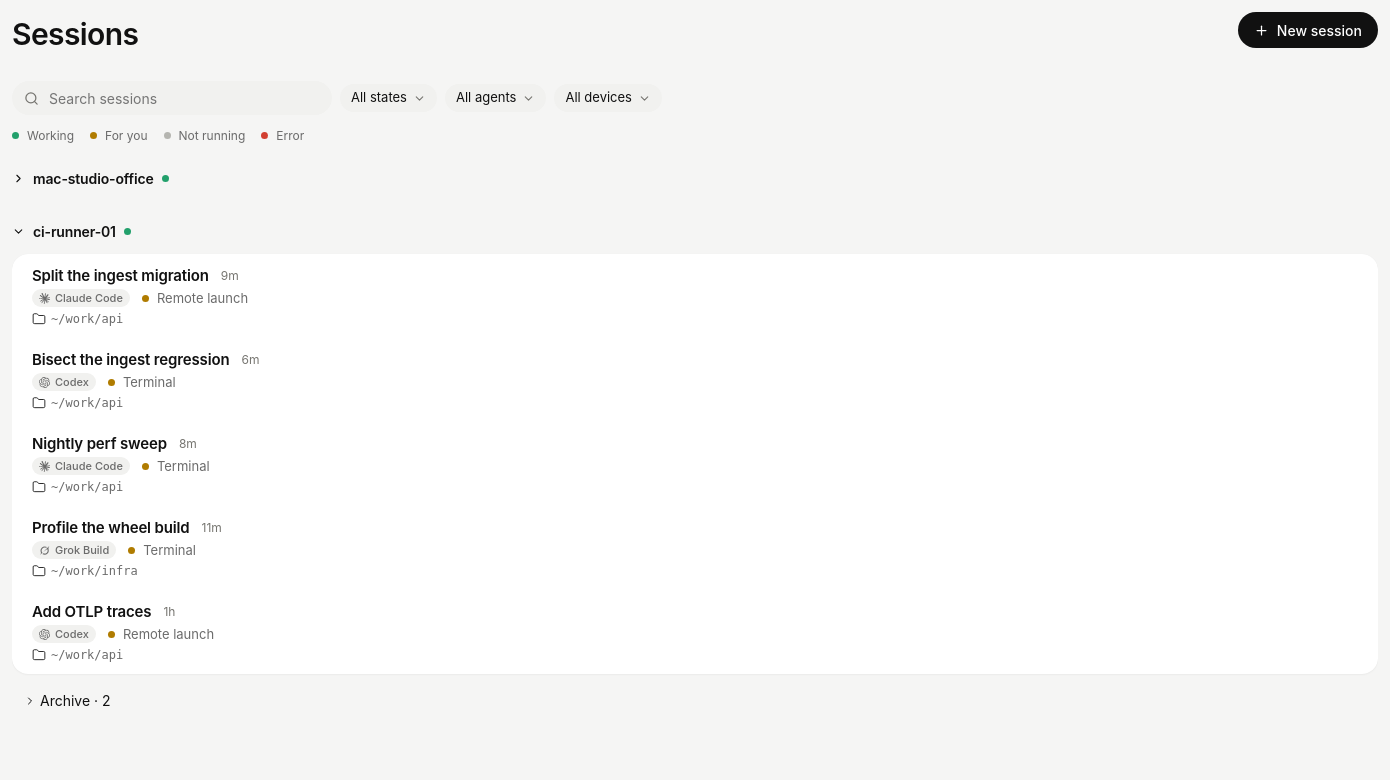
Test: SessionsPage grouping › opens a folded device while a search matches inside it
The image size is (1390, 780).
Expected: the text "Fix flaky auth test" is not shown
Type "flaky" into the search field labelled "Search sessions" at [184, 98], box 47,86 -> 320,110
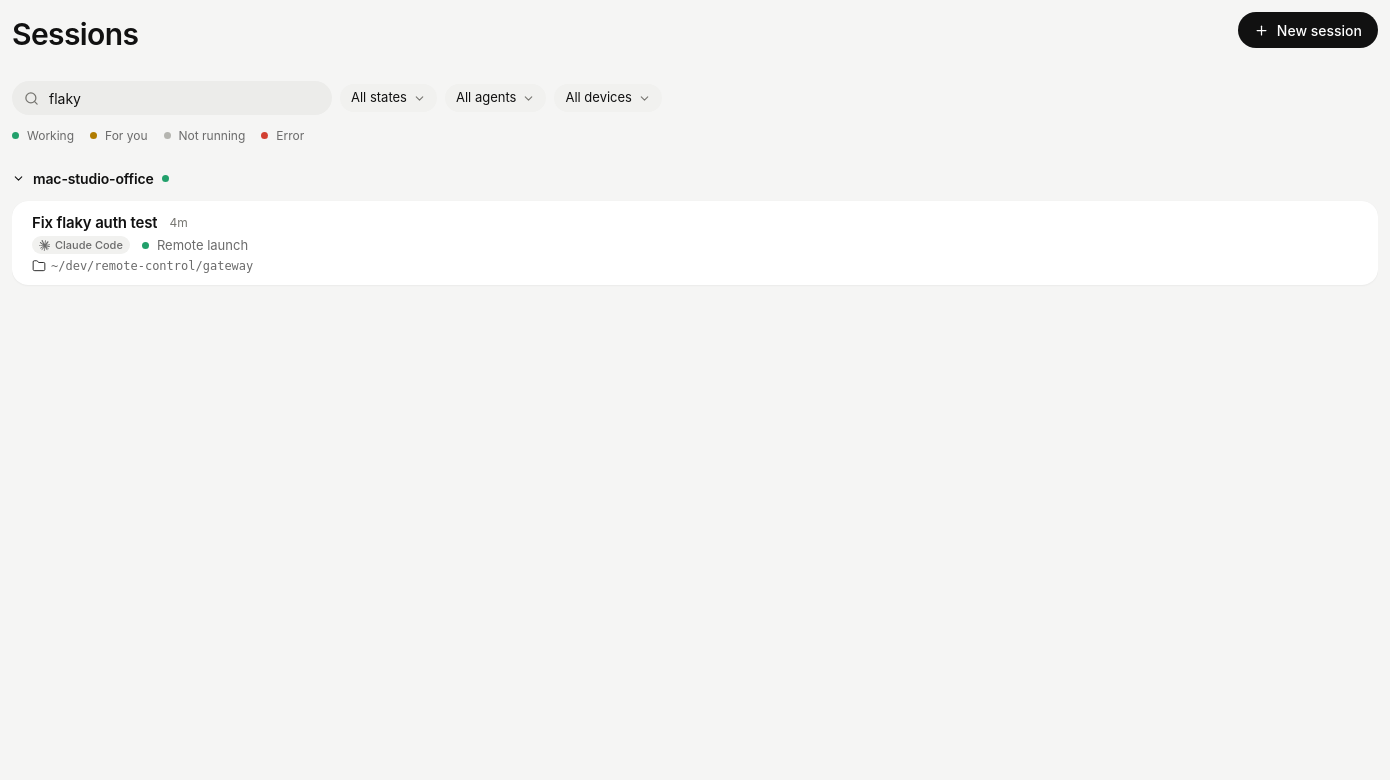
Expected: the text "Fix flaky auth test" is shown, 32,212 -> 157,233
Clear the search field named "Search sessions" at [184, 98], box 47,86 -> 320,110
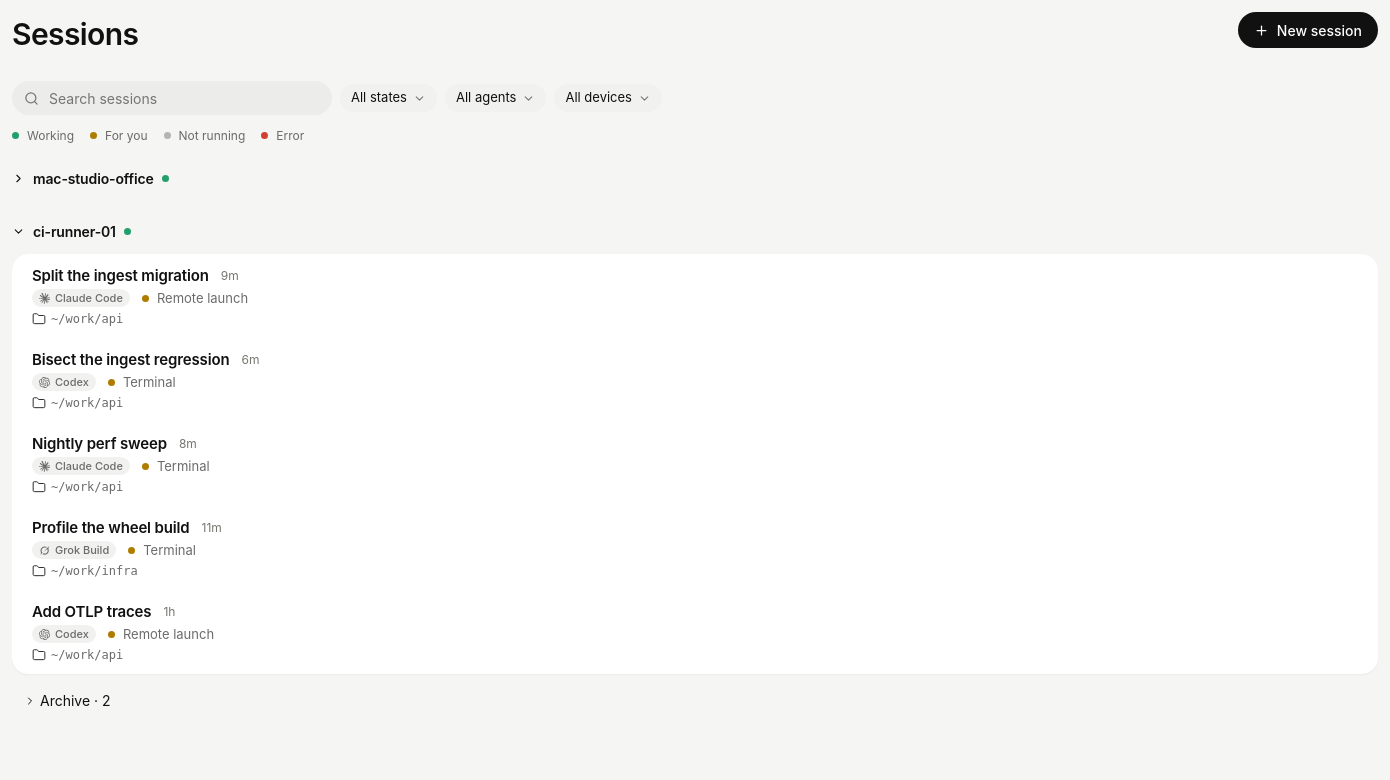
Expected: the button "Fix flaky auth test" is gone
